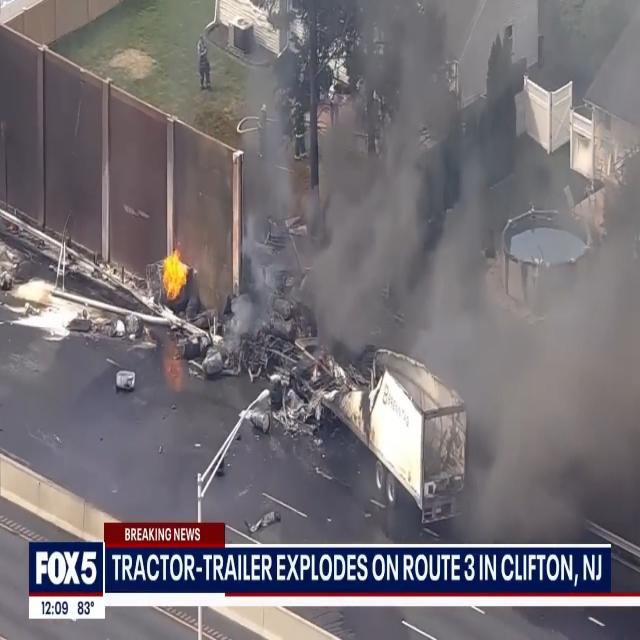fire: (156, 247, 191, 303)
